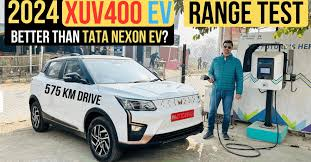XUV 400: (27, 54, 206, 162)
